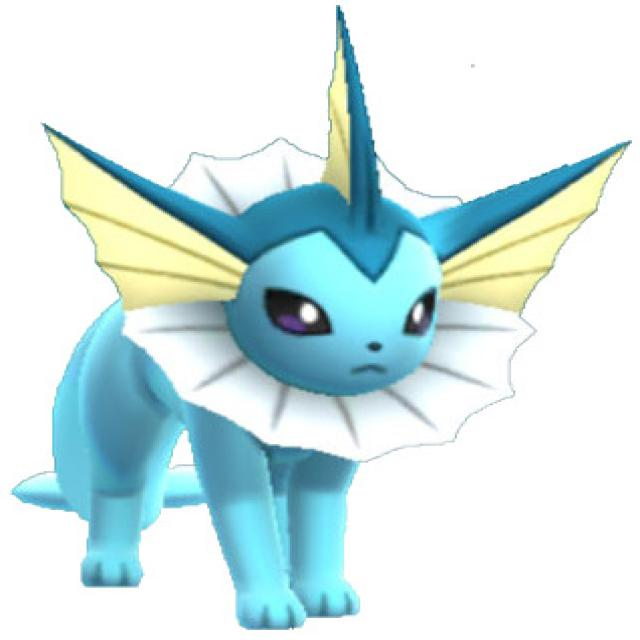Vaporeon: (48, 136, 548, 614)
